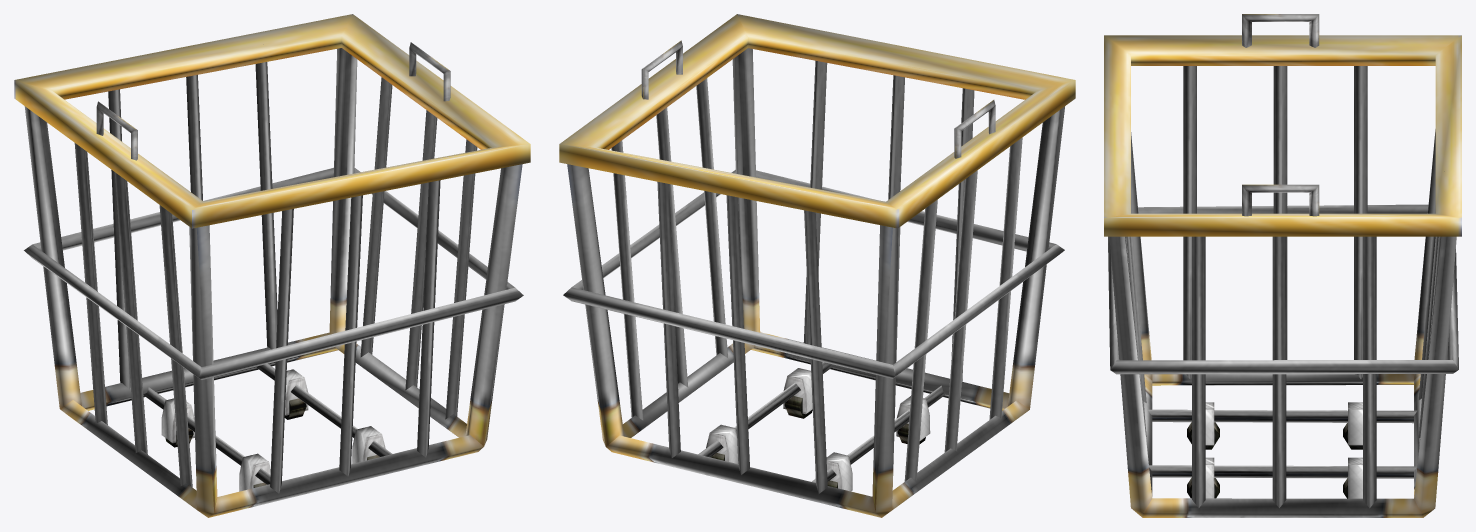
Rendered from a_sebasket04.glb.
3 views of the same model, side by side, from view 1: azimuth 30°, elevation 25°; view 2: azimuth 150°, elevation 25°; view 3: azimuth 270°, elevation 25° (orthographic).
Parts seen in each view (by area): view 1: a_sebasket04; view 2: a_sebasket04; view 3: a_sebasket04.
Boxes of the visible parts, left/top/right/bottom form: a_sebasket04: left=14, top=14, right=530, bottom=517; a_sebasket04: left=559, top=14, right=1075, bottom=517; a_sebasket04: left=1104, top=14, right=1461, bottom=517.
Size of the model in its own units: 1.03 by 1.1 by 0.9355.
1 material, 1 textured.
